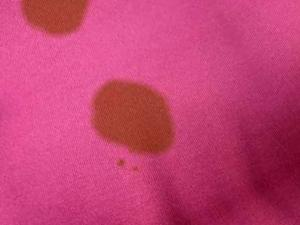stain: (93, 76, 188, 159), (19, 0, 91, 42), (130, 164, 142, 178), (115, 156, 125, 169)
